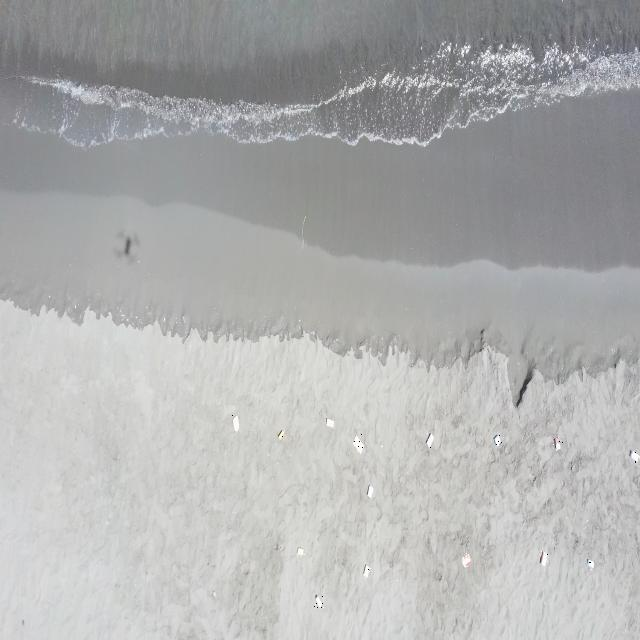Garbage: (460, 552, 471, 567), (353, 435, 362, 452), (232, 413, 239, 431), (630, 449, 639, 463), (493, 433, 502, 446), (553, 436, 562, 449), (539, 550, 547, 564), (313, 595, 322, 607), (426, 432, 432, 447), (324, 417, 333, 427), (367, 484, 372, 497), (276, 430, 283, 439), (364, 564, 369, 576), (296, 547, 303, 555), (587, 559, 593, 567)
